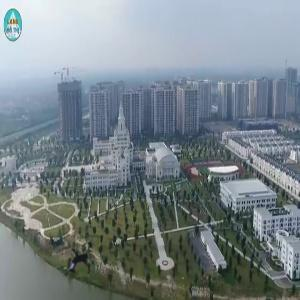drone: (40, 221, 117, 298)
